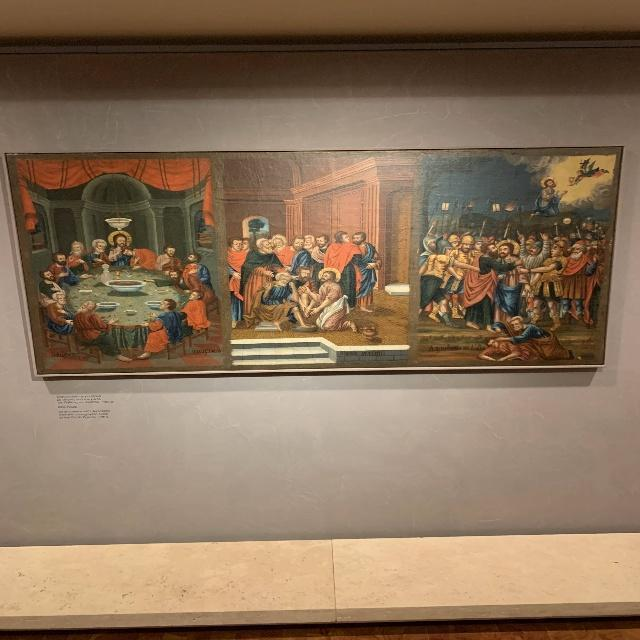aura: (106, 229, 134, 247), (495, 240, 523, 258)
christ: (494, 243, 525, 324), (107, 230, 135, 265)
